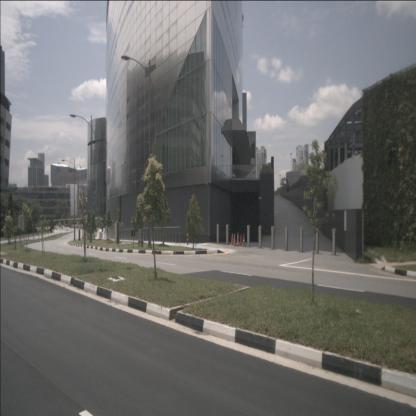cone: (236, 232, 240, 246), (242, 233, 246, 246), (239, 233, 243, 246), (230, 233, 234, 246), (233, 233, 236, 246)
